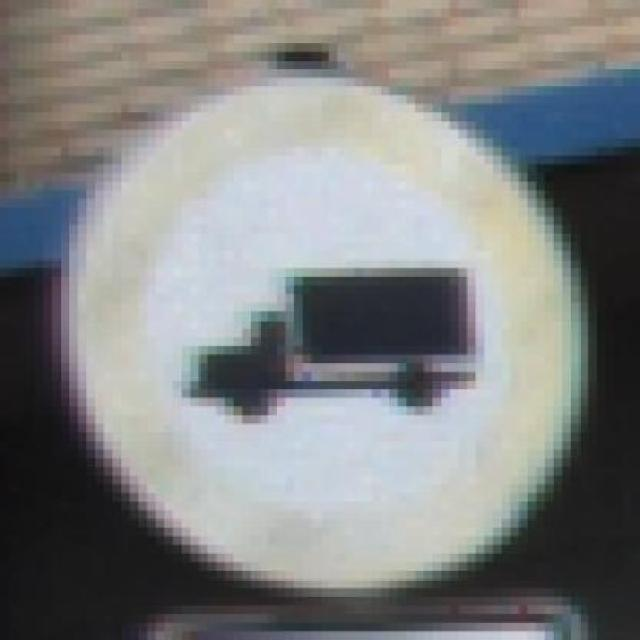Truck traffic is prohibited: (51, 26, 588, 606)
